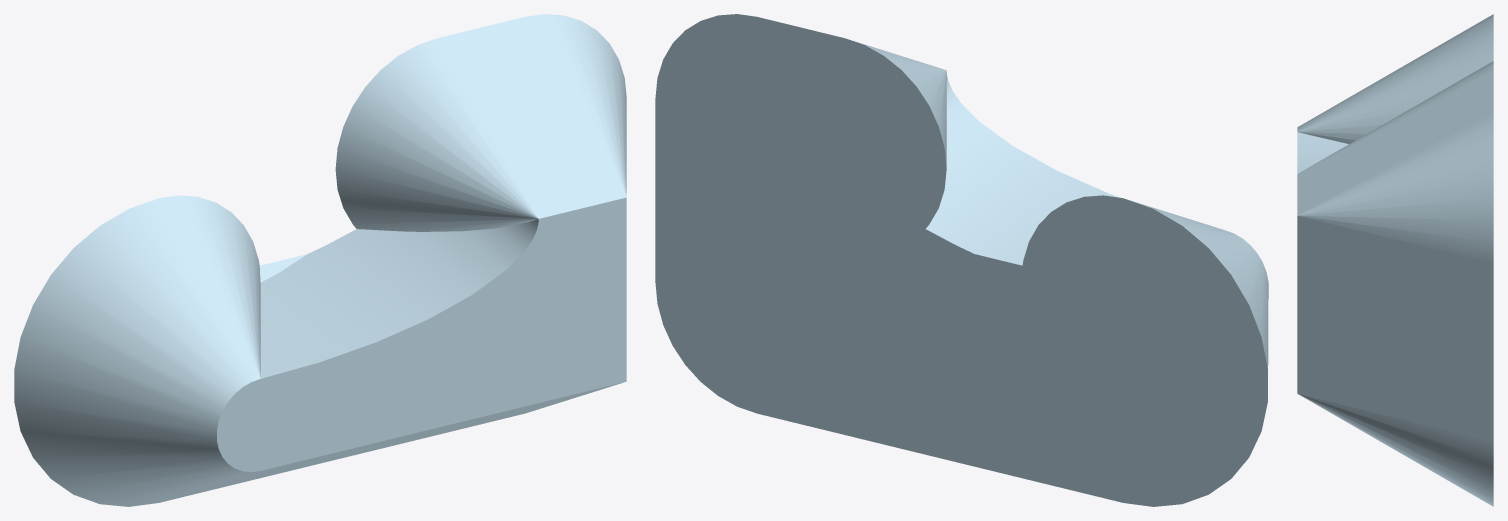
File: Engrave3.gltf
3 views of the same model, side by side, from view 1: azimuth 30°, elevation 25°; view 2: azimuth 150°, elevation 25°; view 3: azimuth 270°, elevation 25° (orthographic). The views are drawn at different scales.
Parts seen in each view (by area): view 1: Part 1; view 2: Part 1; view 3: Part 1.
Part boxes in pixels (x1=…): Part 1: x1=14, y1=14, x2=626, y2=506; Part 1: x1=655, y1=14, x2=1268, y2=506; Part 1: x1=1297, y1=14, x2=1493, y2=506.
Size of the model in its own units: 0.0884 by 0.0547 by 0.0254.
